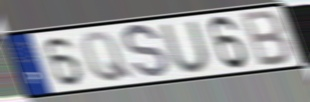6: (207, 15, 249, 71), (44, 35, 86, 88)
B: (240, 8, 294, 69)
Q: (79, 30, 136, 84)
S: (122, 22, 171, 82)
U: (157, 19, 215, 75)
